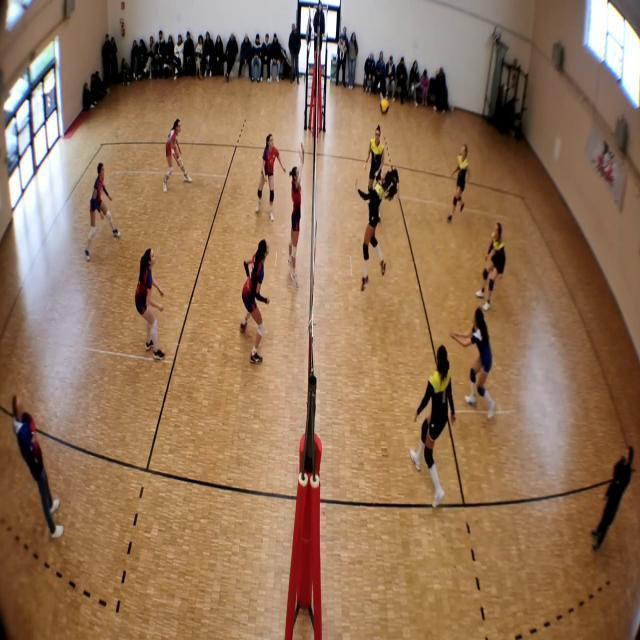volleyball: (379, 99, 390, 115)
